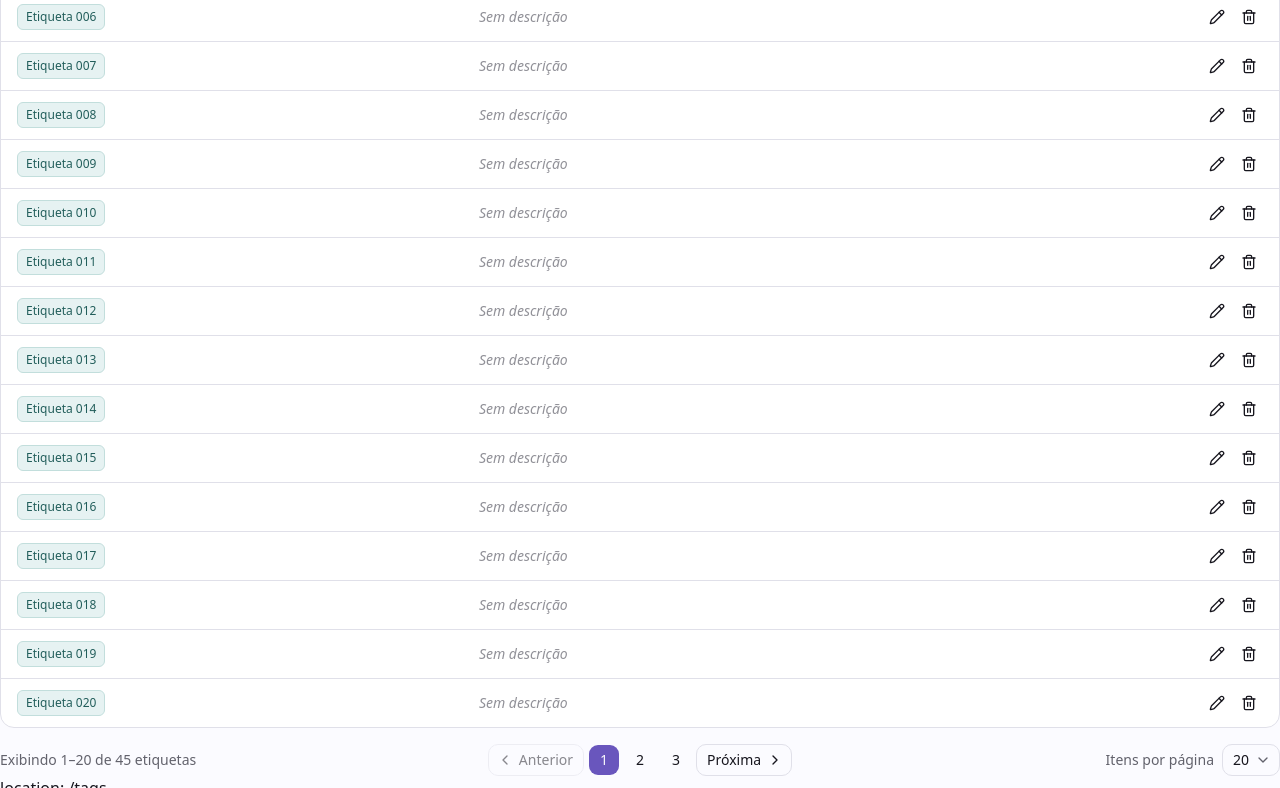
Test: TagListPage › "Limpar filtros" › empties the field and lists every tag again, keeping the size, as "Limpar busca" does
(page scrolled)
Click the dropdown named "Itens por página" at (1251, 760), box [1222,744,1279,776]
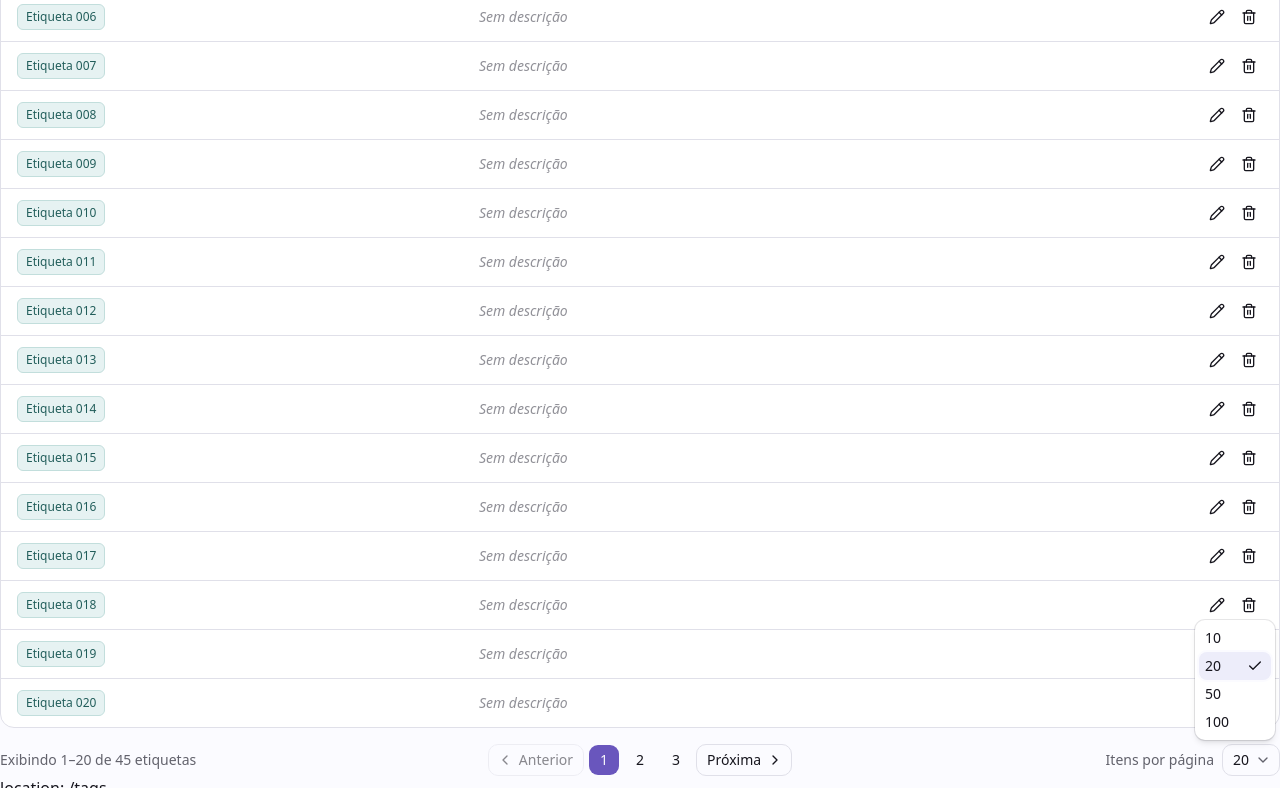
Click the option "50" at (1213, 694), box [1205,684,1221,703]
(page scrolled)
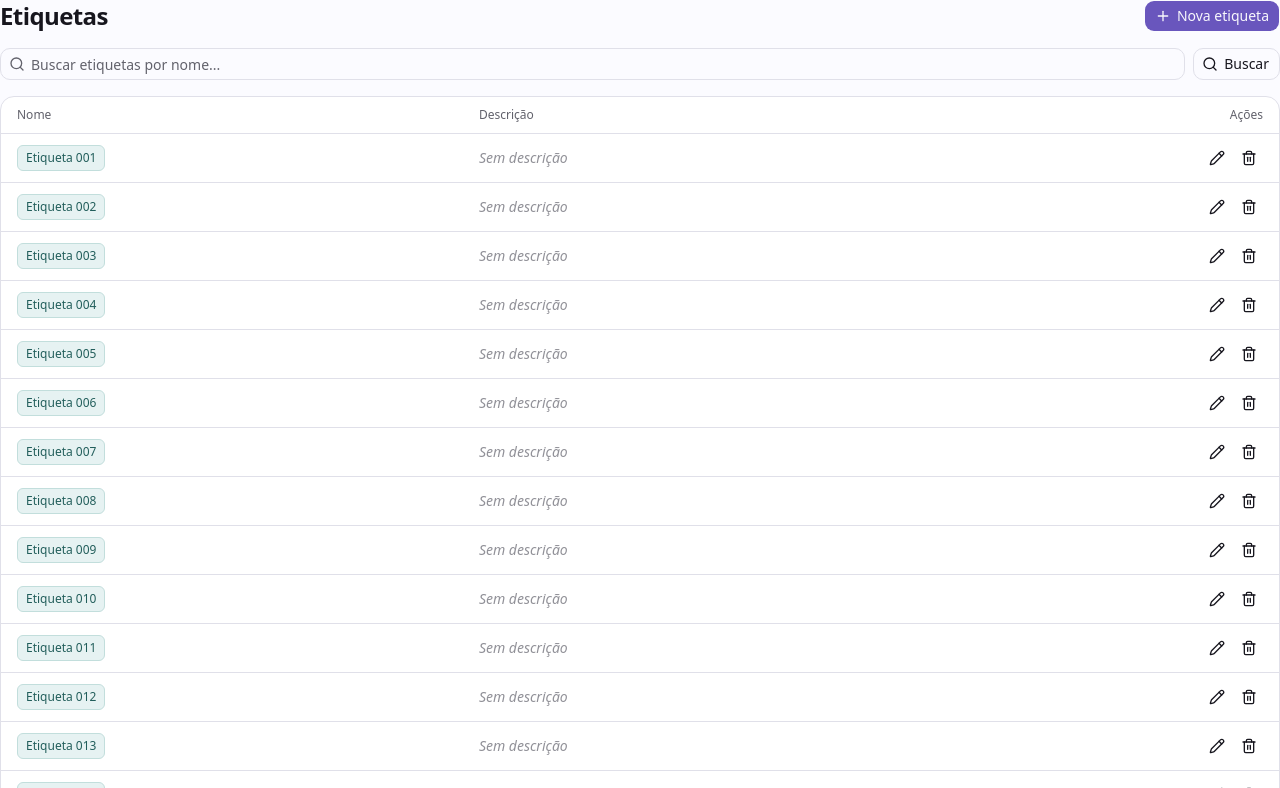
Type "etiqueta 00" into the field labelled "Buscar etiquetas por nome" at (605, 64), box [25,48,1184,80]
Then press Enter
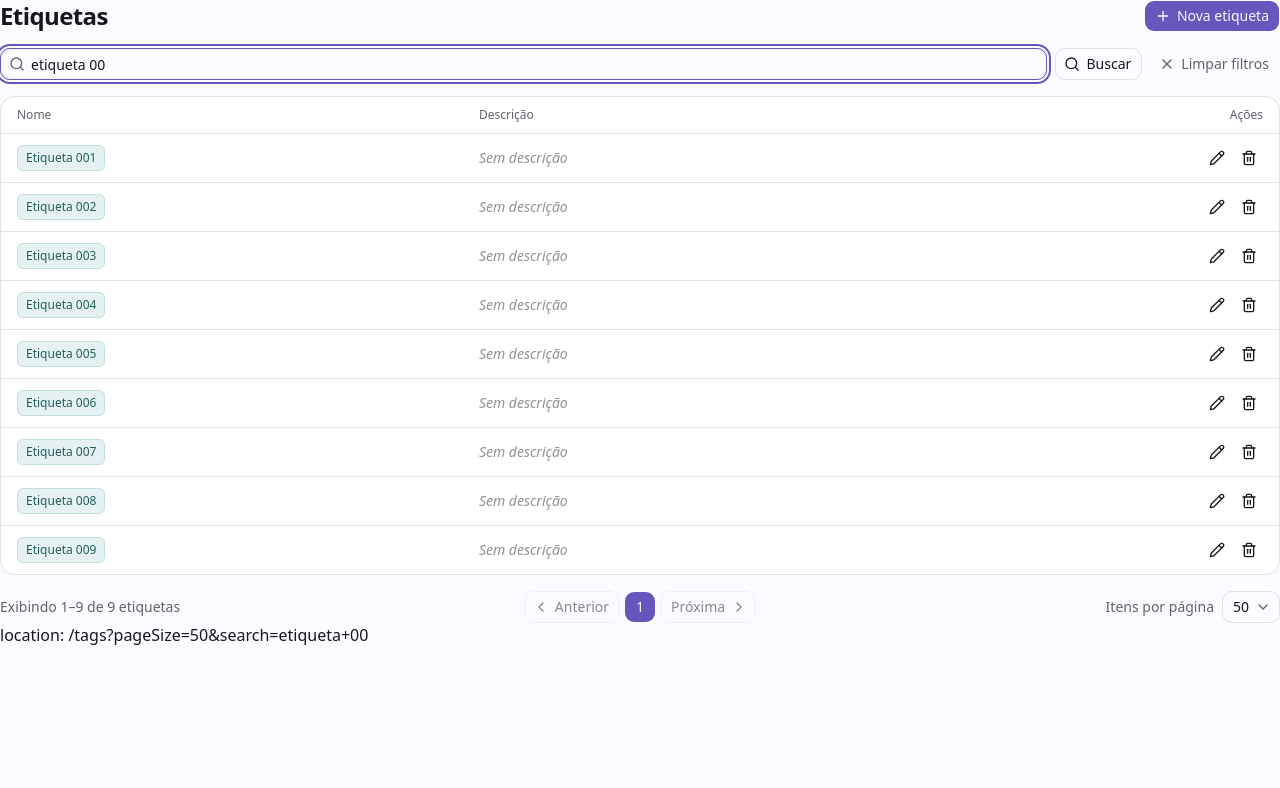
expect the text "Etiqueta 010" is gone: met
Click the button "Limpar filtros" at (1215, 64), box [1150,48,1279,80]
(page scrolled)
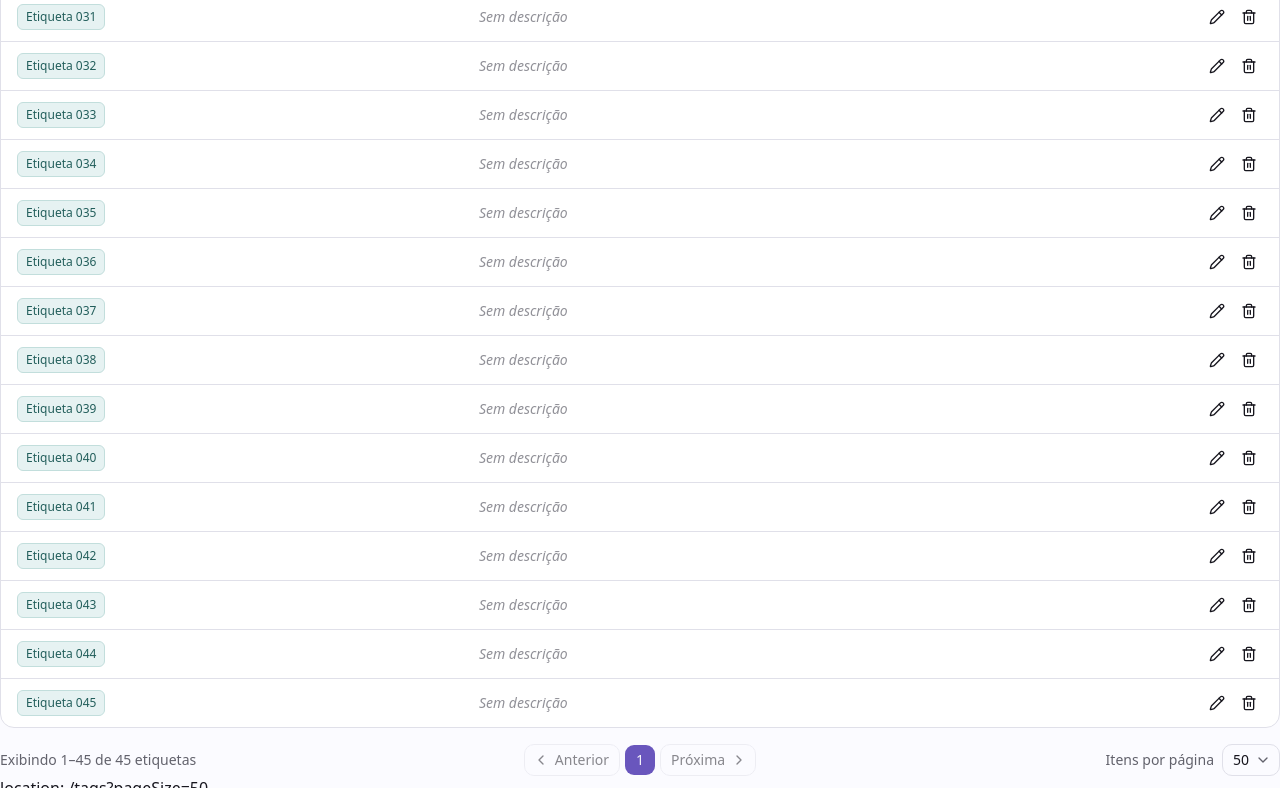
expect the text "Etiqueta 045" is shown: met, box [17,690,106,716]
expect the button "Limpar filtros" is gone: met
